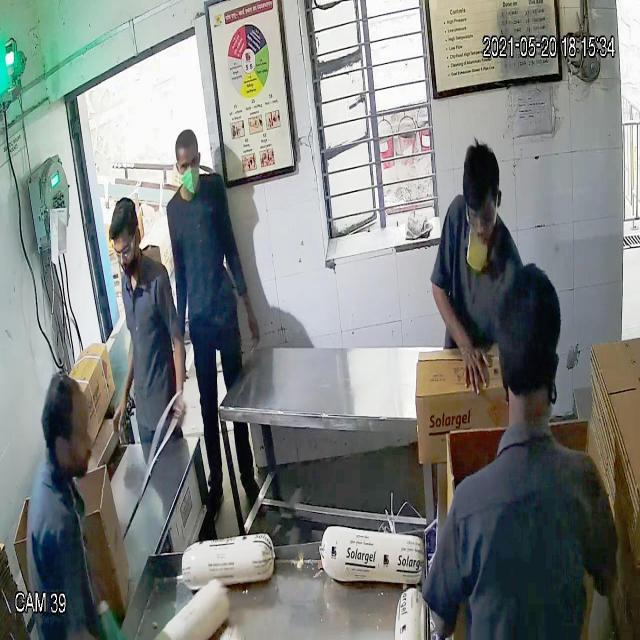glasses: (460, 196, 504, 232), (109, 242, 138, 265)
no-glass: (175, 155, 205, 176)
